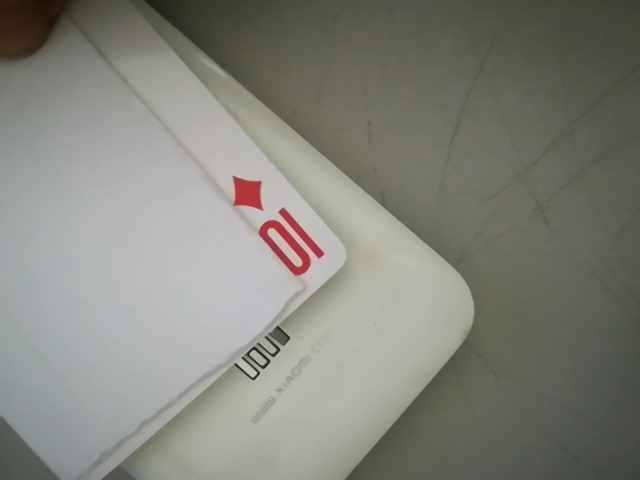fk 10: (221, 162, 341, 292)
